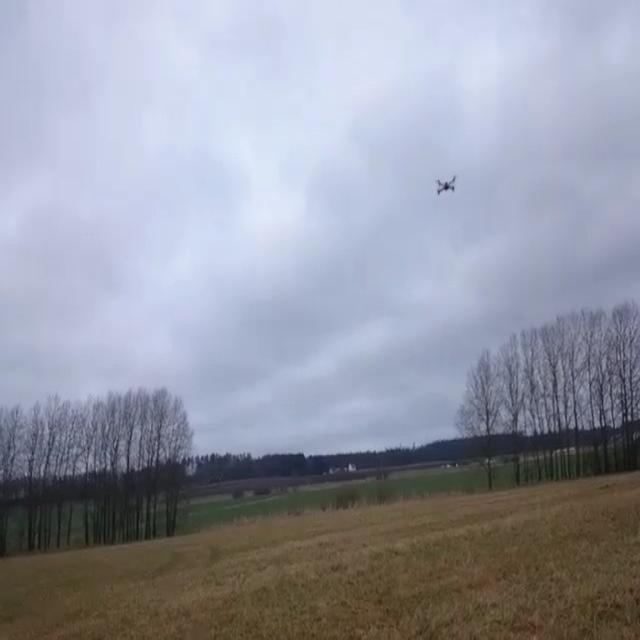drone: (435, 174, 458, 197)
